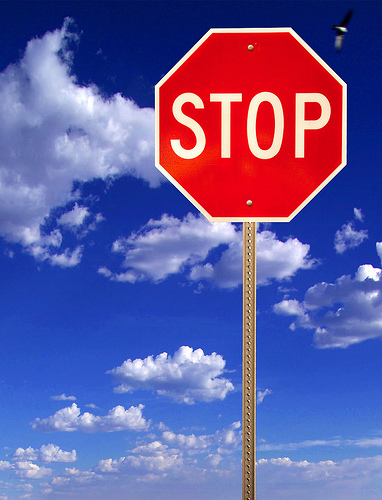stop: (155, 24, 350, 223)
